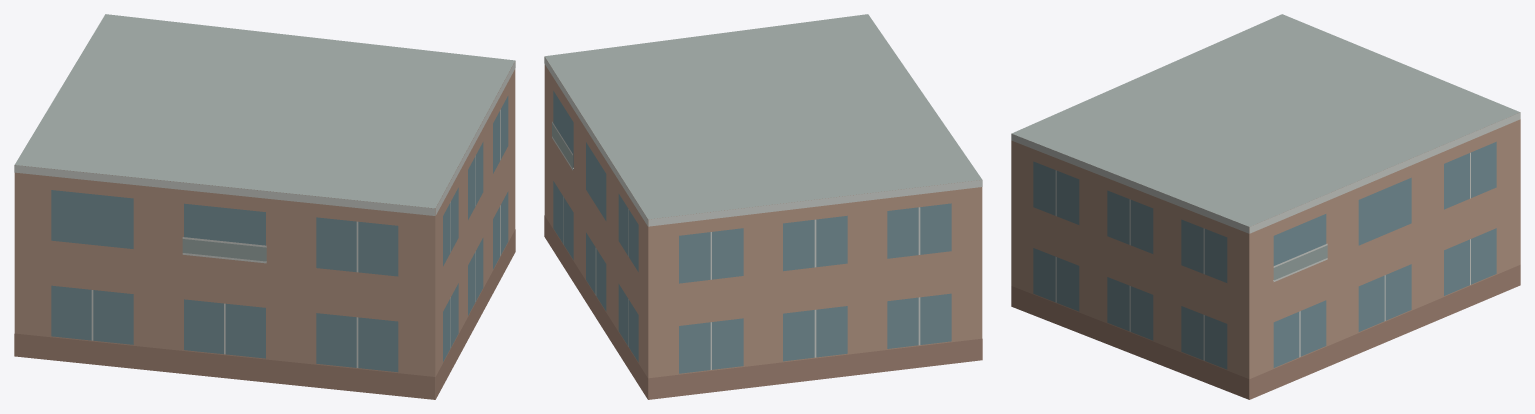
File: survey-upis-32866458.glb
The picture shows the model from 3 angles, left to right: view 1: azimuth 30°, elevation 25°; view 2: azimuth 150°, elevation 25°; view 3: azimuth 270°, elevation 25°; orthographic projection. The views are drawn at different scales.
Parts seen in each view (by area): view 1: survey-upis-32866458.tmp; view 2: survey-upis-32866458.tmp; view 3: survey-upis-32866458.tmp.
Part boxes in pixels (left/top/right/bottom): survey-upis-32866458.tmp: left=14, top=14, right=515, bottom=399; survey-upis-32866458.tmp: left=544, top=14, right=982, bottom=399; survey-upis-32866458.tmp: left=1011, top=14, right=1520, bottom=399.
Bounding box in the file's own units: 16.11 × 6.1 × 16.28.
